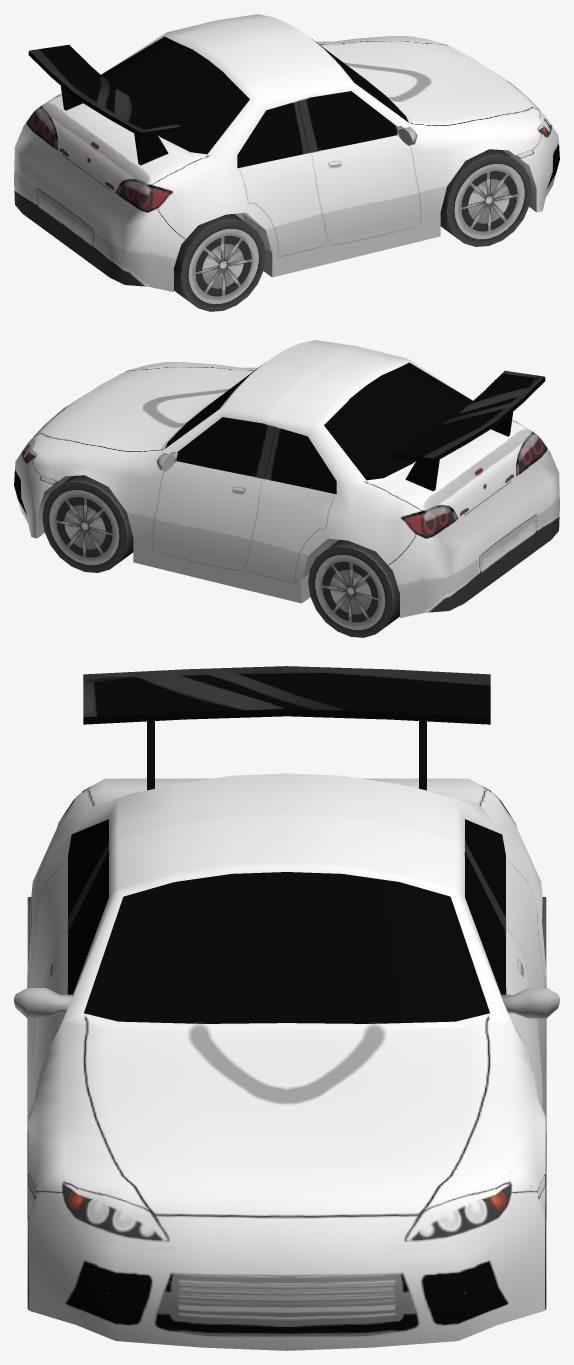
File: car2.fbx
The picture shows the model from 3 angles, top to bottom: view 1: azimuth 30°, elevation 25°; view 2: azimuth 150°, elevation 25°; view 3: azimuth 270°, elevation 25°; orthographic projection. The views are drawn at different scales.
Visible parts, largest first — view 1: carbody5, tyre_rr, tyre_fr, wing; view 2: carbody5, tyre_rl, tyre_fl, wing; view 3: carbody5, wing.
Part boxes in pixels (box(x1,y1,x2,y2)): carbody5: box(14, 14, 559, 291); tyre_rr: box(174, 214, 265, 311); tyre_fr: box(440, 149, 531, 246); wing: box(28, 44, 181, 165); carbody5: box(14, 340, 559, 617); tyre_rl: box(308, 540, 399, 637); tyre_fl: box(42, 475, 133, 572); wing: box(392, 370, 545, 491); carbody5: box(14, 773, 559, 1350); wing: box(83, 666, 490, 790).
Size of the model in its own units: 11.45 by 4.57 by 6.5.
